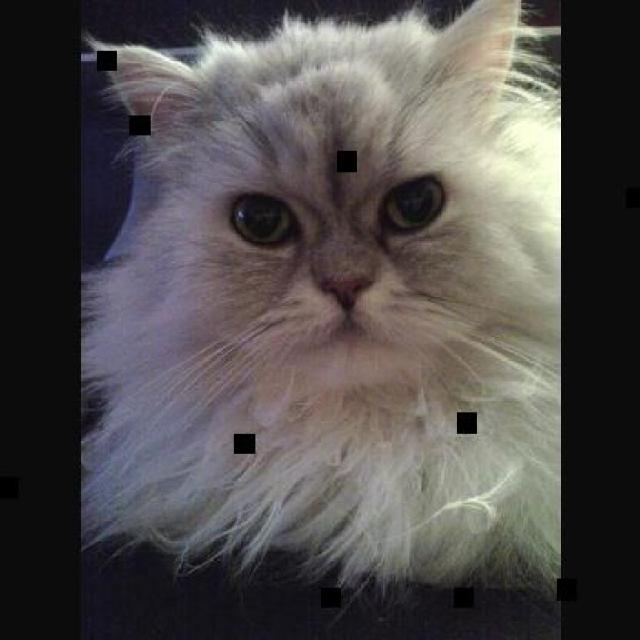unauthorized: (77, 0, 560, 595)
